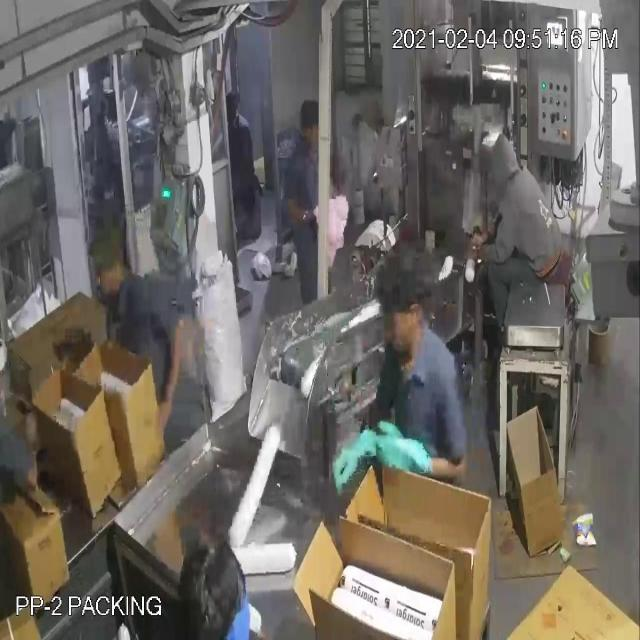No_Gloves: (36, 70, 403, 457)
